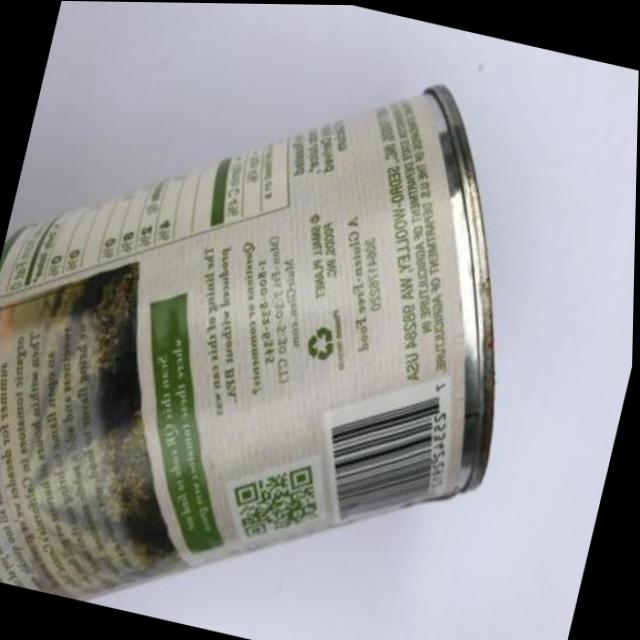metal: (0, 2, 634, 639)
